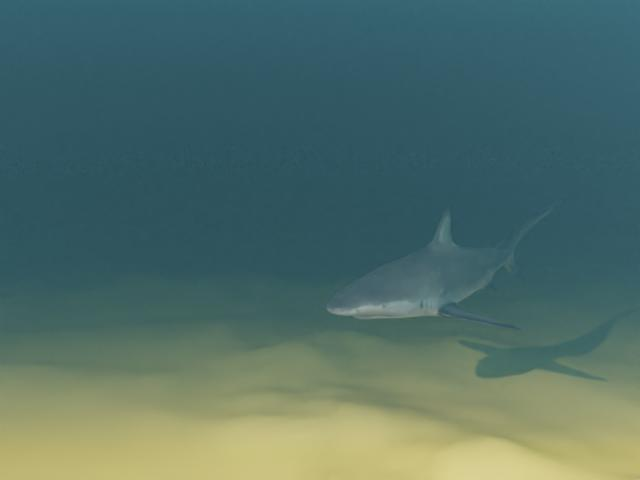Carribean Shark.001: (326, 200, 563, 330)
